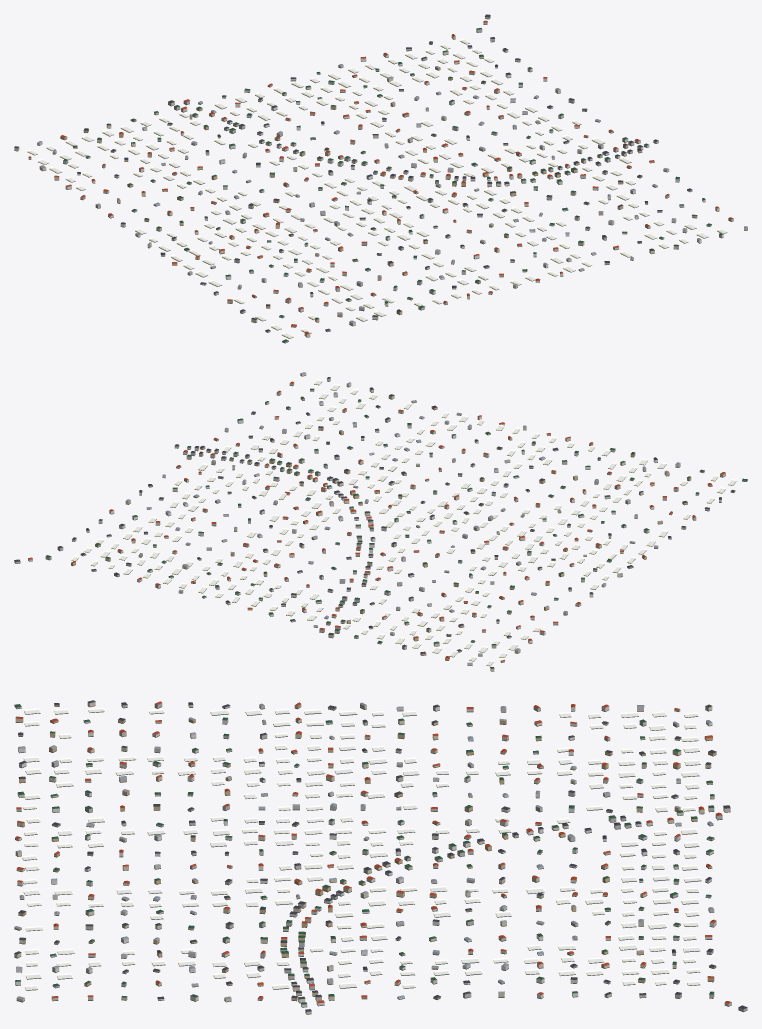
The model's file is buildings_T_E04_S01.glb.
3 views of the same model, one above another, from view 1: azimuth 30°, elevation 25°; view 2: azimuth 150°, elevation 25°; view 3: azimuth 270°, elevation 25° (orthographic). The views are drawn at different scales.
Visible parts, largest first — view 1: T_E04_S01_roofs_agri_greenhouse_arch, T_E04_S01_slope_seating_foundations, T_E04_S01_walls_wall_modern_warm_white, T_E04_S01_walls_wall_dalat_cream_stucco, T_E04_S01_walls_wall_pastel_sand_gray, T_E04_S01_roofs_roof_slate_French_villa_hip, T_E04_S01_roofs_roof_terracotta_gable, T_E04_S01_walls_wall_french_ochre_villa, T_E04_S01_roofs_roof_pine_green_hip, T_E04_S01_roofs_roof_zinc_silver_gable; view 2: T_E04_S01_roofs_agri_greenhouse_arch, T_E04_S01_slope_seating_foundations, T_E04_S01_walls_wall_modern_warm_white, T_E04_S01_walls_wall_dalat_cream_stucco, T_E04_S01_walls_wall_pastel_sand_gray, T_E04_S01_roofs_roof_slate_French_villa_hip, T_E04_S01_roofs_roof_terracotta_gable, T_E04_S01_walls_wall_french_ochre_villa, T_E04_S01_roofs_roof_pine_green_hip, T_E04_S01_roofs_roof_zinc_silver_gable; view 3: T_E04_S01_roofs_agri_greenhouse_arch, T_E04_S01_slope_seating_foundations, T_E04_S01_walls_wall_modern_warm_white, T_E04_S01_walls_wall_dalat_cream_stucco, T_E04_S01_walls_wall_pastel_sand_gray, T_E04_S01_roofs_roof_slate_French_villa_hip, T_E04_S01_roofs_roof_terracotta_gable, T_E04_S01_roofs_roof_pine_green_hip, T_E04_S01_walls_wall_french_ochre_villa, T_E04_S01_roofs_roof_zinc_silver_gable.
Part boxes in pixels (x1=…): T_E04_S01_roofs_agri_greenhouse_arch: x1=27, y1=38, x2=727, y2=338; T_E04_S01_slope_seating_foundations: x1=14, y1=17, x2=747, y2=343; T_E04_S01_walls_wall_modern_warm_white: x1=37, y1=54, x2=723, y2=325; T_E04_S01_walls_wall_dalat_cream_stucco: x1=14, y1=22, x2=747, y2=337; T_E04_S01_walls_wall_pastel_sand_gray: x1=28, y1=16, x2=684, y2=342; T_E04_S01_roofs_roof_slate_French_villa_hip: x1=14, y1=14, x2=692, y2=331; T_E04_S01_roofs_roof_terracotta_gable: x1=28, y1=20, x2=733, y2=334; T_E04_S01_walls_wall_french_ochre_villa: x1=60, y1=35, x2=697, y2=332; T_E04_S01_roofs_roof_pine_green_hip: x1=63, y1=28, x2=723, y2=342; T_E04_S01_roofs_roof_zinc_silver_gable: x1=37, y1=64, x2=747, y2=323; T_E04_S01_roofs_agri_greenhouse_arch: x1=71, y1=379, x2=736, y2=665; T_E04_S01_slope_seating_foundations: x1=14, y1=375, x2=747, y2=671; T_E04_S01_walls_wall_modern_warm_white: x1=98, y1=377, x2=698, y2=665; T_E04_S01_walls_wall_dalat_cream_stucco: x1=28, y1=373, x2=725, y2=671; T_E04_S01_walls_wall_pastel_sand_gray: x1=14, y1=407, x2=747, y2=662; T_E04_S01_roofs_roof_slate_French_villa_hip: x1=14, y1=387, x2=735, y2=668; T_E04_S01_roofs_roof_terracotta_gable: x1=28, y1=381, x2=725, y2=661; T_E04_S01_walls_wall_french_ochre_villa: x1=71, y1=397, x2=735, y2=660; T_E04_S01_roofs_roof_pine_green_hip: x1=46, y1=377, x2=747, y2=645; T_E04_S01_roofs_roof_zinc_silver_gable: x1=126, y1=372, x2=680, y2=663; T_E04_S01_roofs_agri_greenhouse_arch: x1=22, y1=707, x2=701, y2=990; T_E04_S01_slope_seating_foundations: x1=14, y1=705, x2=747, y2=1014; T_E04_S01_walls_wall_modern_warm_white: x1=15, y1=706, x2=716, y2=1006; T_E04_S01_walls_wall_dalat_cream_stucco: x1=14, y1=702, x2=731, y2=1013; T_E04_S01_walls_wall_pastel_sand_gray: x1=14, y1=703, x2=747, y2=1011; T_E04_S01_roofs_roof_slate_French_villa_hip: x1=14, y1=700, x2=747, y2=1011; T_E04_S01_roofs_roof_terracotta_gable: x1=15, y1=701, x2=731, y2=1003; T_E04_S01_roofs_roof_pine_green_hip: x1=14, y1=704, x2=714, y2=1004; T_E04_S01_walls_wall_french_ochre_villa: x1=14, y1=704, x2=716, y2=1000; T_E04_S01_roofs_roof_zinc_silver_gable: x1=14, y1=702, x2=713, y2=999.
Bounding box in the file's own units: 1872 × 31.4 × 1871.
